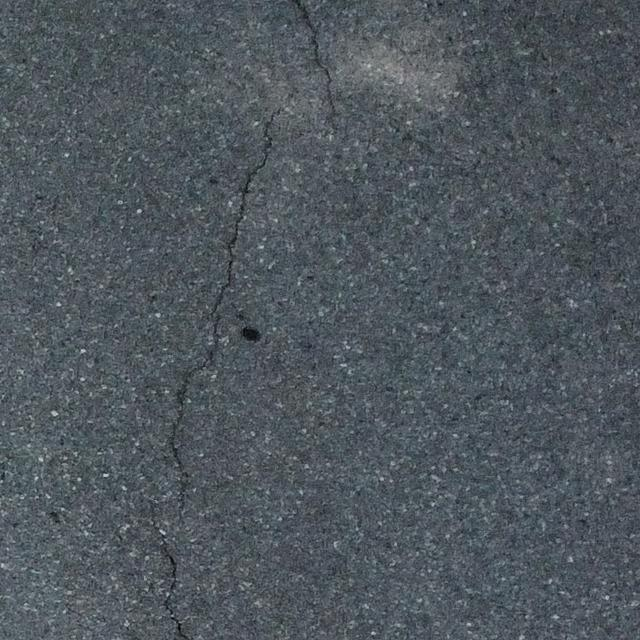LongitudinalCrack: (162, 107, 281, 640), (299, 1, 342, 119)
